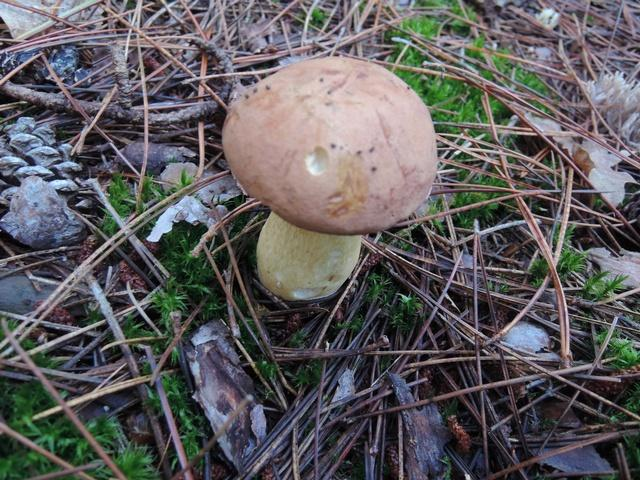Non-edible Mushroom: (220, 54, 439, 303)
